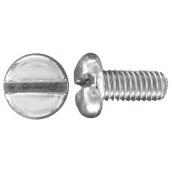screw: (4, 52, 68, 119)
